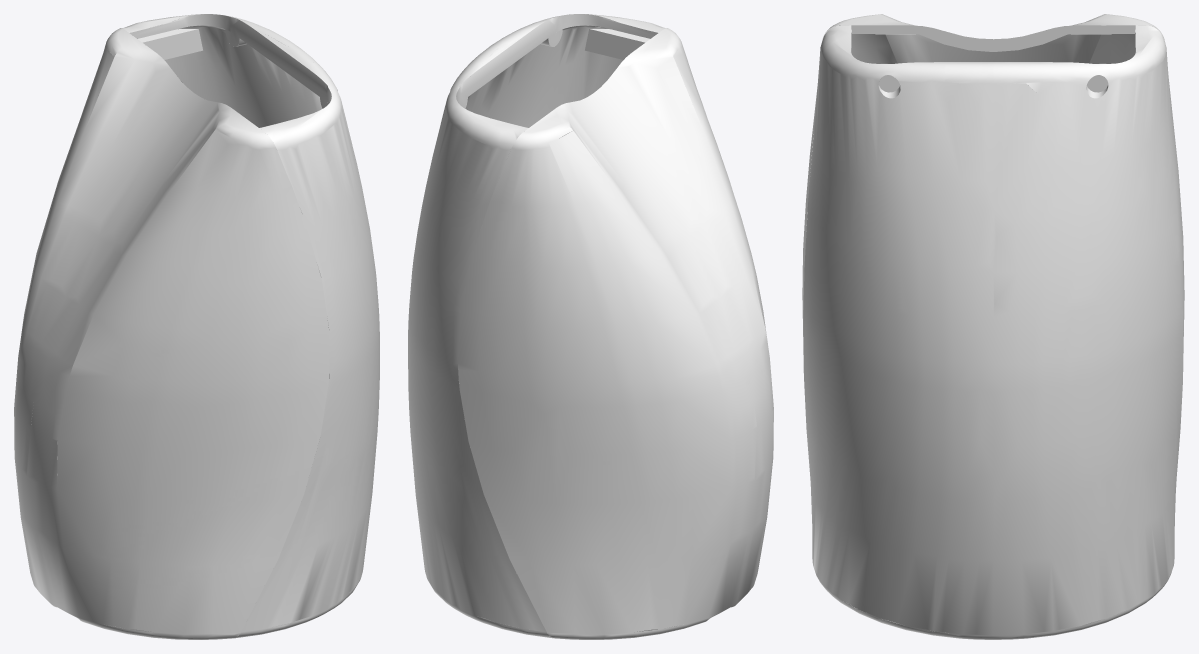
File: upperarmtextured.dae
3 renders of one model, left to right at view 1: azimuth 30°, elevation 25°; view 2: azimuth 150°, elevation 25°; view 3: azimuth 270°, elevation 25°, orthographic. The views are drawn at different scales.
Parts seen in each view (by area): view 1: bovenarmversiekrisreducedatenth-Pivot; view 2: bovenarmversiekrisreducedatenth-Pivot; view 3: bovenarmversiekrisreducedatenth-Pivot.
Boxes of the visible parts, box(x1,y1,x2,y2) form: bovenarmversiekrisreducedatenth-Pivot: box(14, 14, 379, 639); bovenarmversiekrisreducedatenth-Pivot: box(408, 14, 773, 639); bovenarmversiekrisreducedatenth-Pivot: box(802, 14, 1184, 639).
Size of the model in its own units: 130 by 191 by 120.
1 material, 1 textured.
